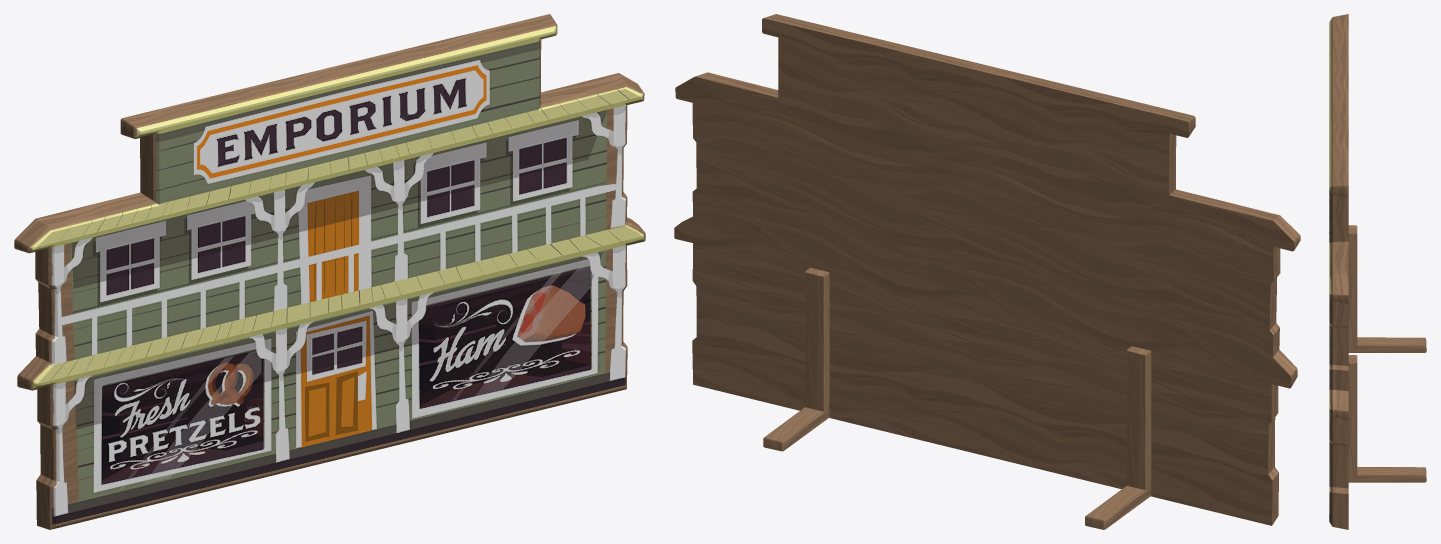
File: emporium cutout.glb
3 renders of one model, left to right at view 1: azimuth 30°, elevation 25°; view 2: azimuth 150°, elevation 25°; view 3: azimuth 270°, elevation 25°, orthographic. The views are drawn at different scales.
Parts seen in each view (by area): view 1: Standee_Emporium_LOD0; view 2: Standee_Emporium_LOD0; view 3: Standee_Emporium_LOD0.
Boxes of the visible parts, left/top/right/bottom form: Standee_Emporium_LOD0: left=14, top=14, right=645, bottom=529; Standee_Emporium_LOD0: left=674, top=14, right=1300, bottom=529; Standee_Emporium_LOD0: left=1329, top=14, right=1426, bottom=529.
Bounding box in the file's own units: 7.23 × 4.28 × 1.19.
1 material, 1 textured.
